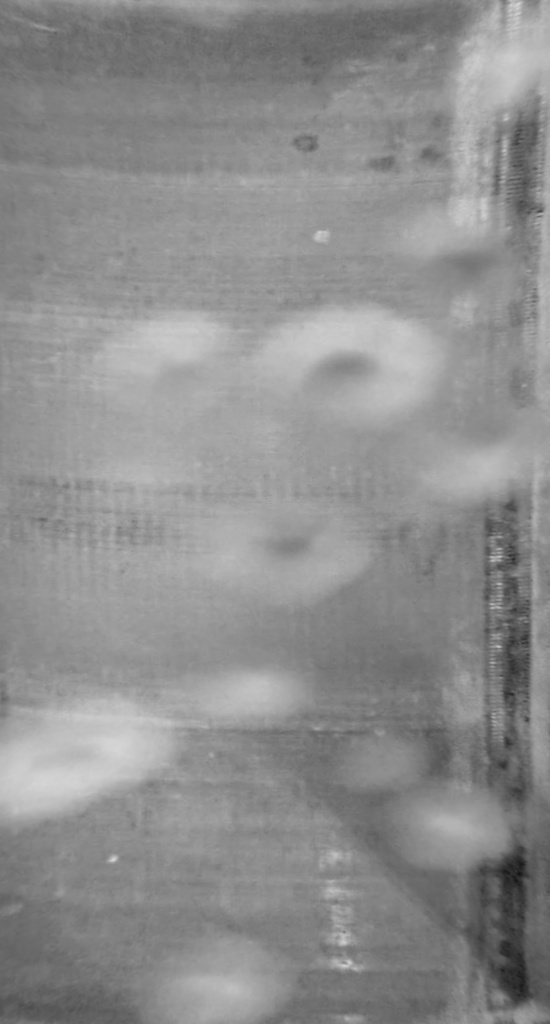splice: (453, 1, 550, 1020)
